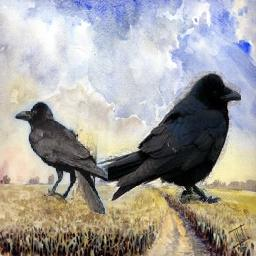Crow: (97, 72, 241, 205), (14, 102, 109, 215)
